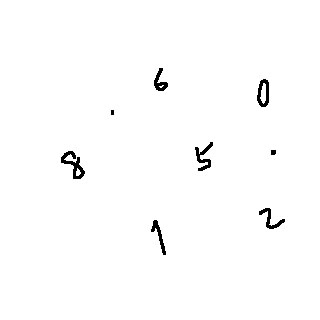.: (265, 147, 282, 163), (107, 105, 118, 120)
0: (249, 79, 278, 112)
1: (146, 212, 174, 260)
2: (254, 205, 295, 232)
5: (190, 135, 234, 185)
6: (146, 63, 175, 100)
8: (62, 147, 92, 187)
